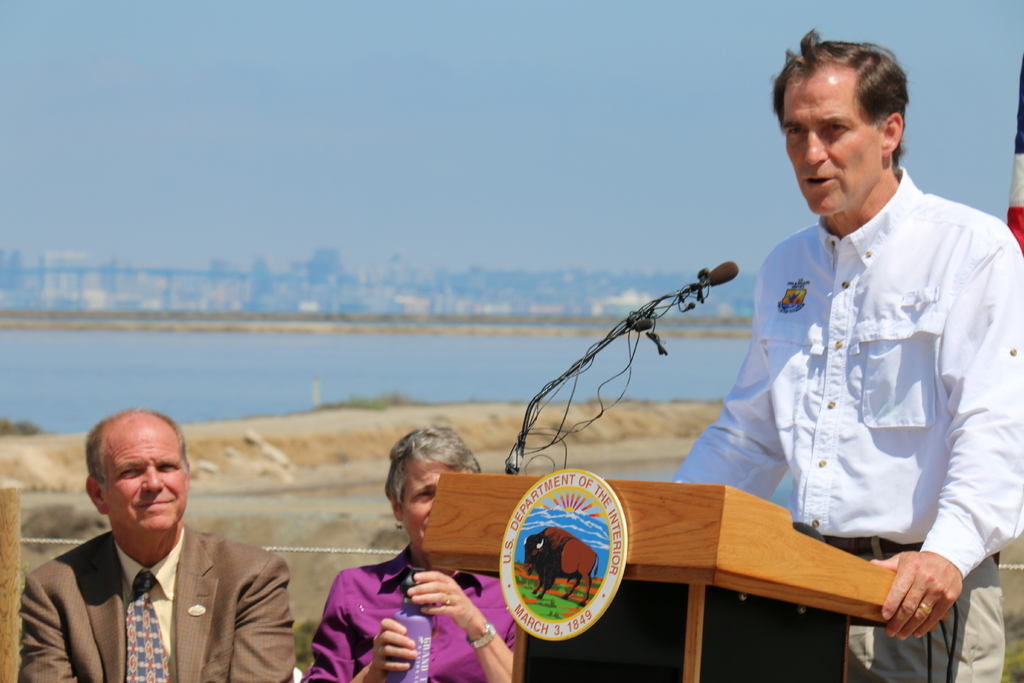Animal: (526, 526, 597, 603)
